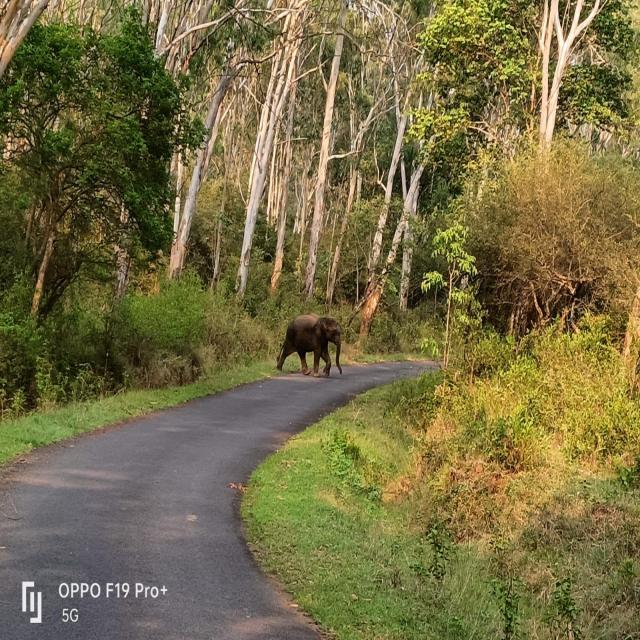Elephant: (276, 311, 342, 380)
